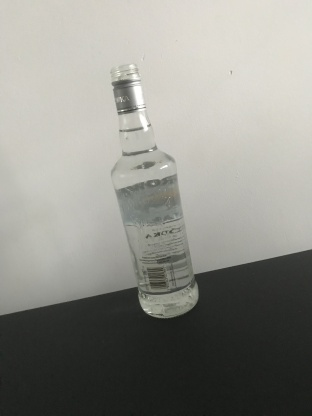nakretka: (108, 60, 148, 116)
